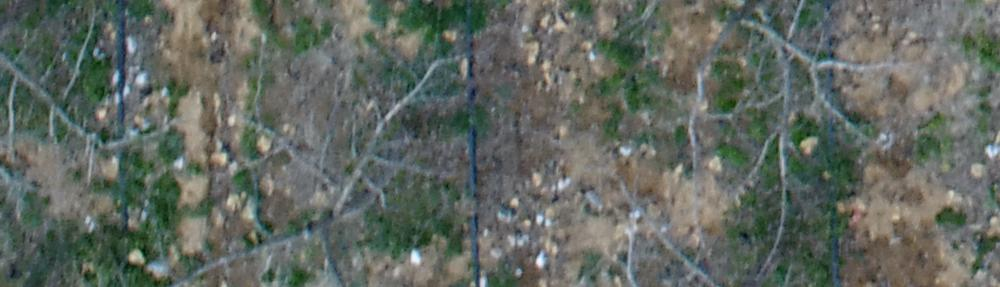apple: (441, 10, 913, 274), (176, 56, 481, 275)
